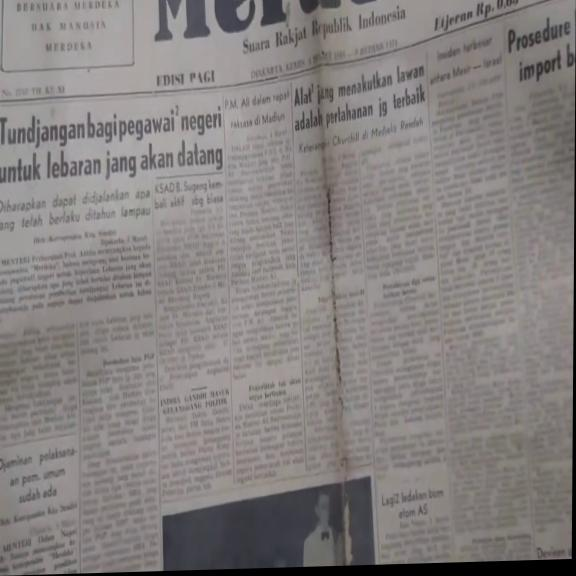Kertas: (0, 64, 345, 566), (0, 99, 170, 318)
